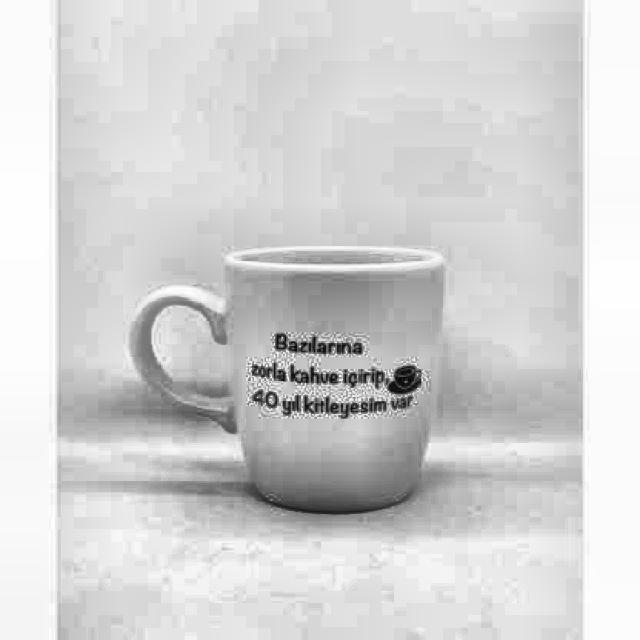Mug: (129, 245, 446, 513)
